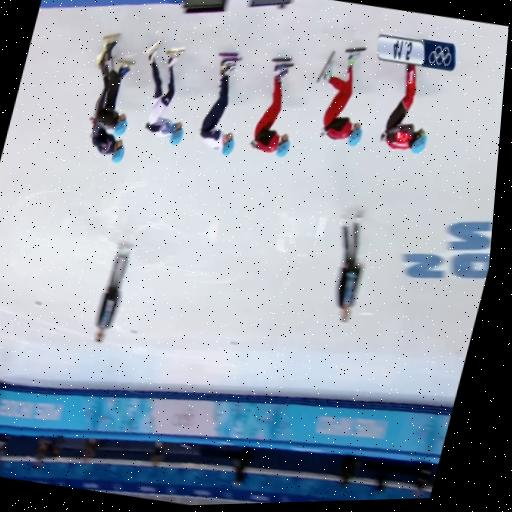Skater: (320, 48, 364, 145), (381, 64, 427, 153), (200, 53, 240, 154), (146, 40, 184, 144), (252, 58, 292, 156), (94, 33, 127, 135), (107, 60, 135, 108)
